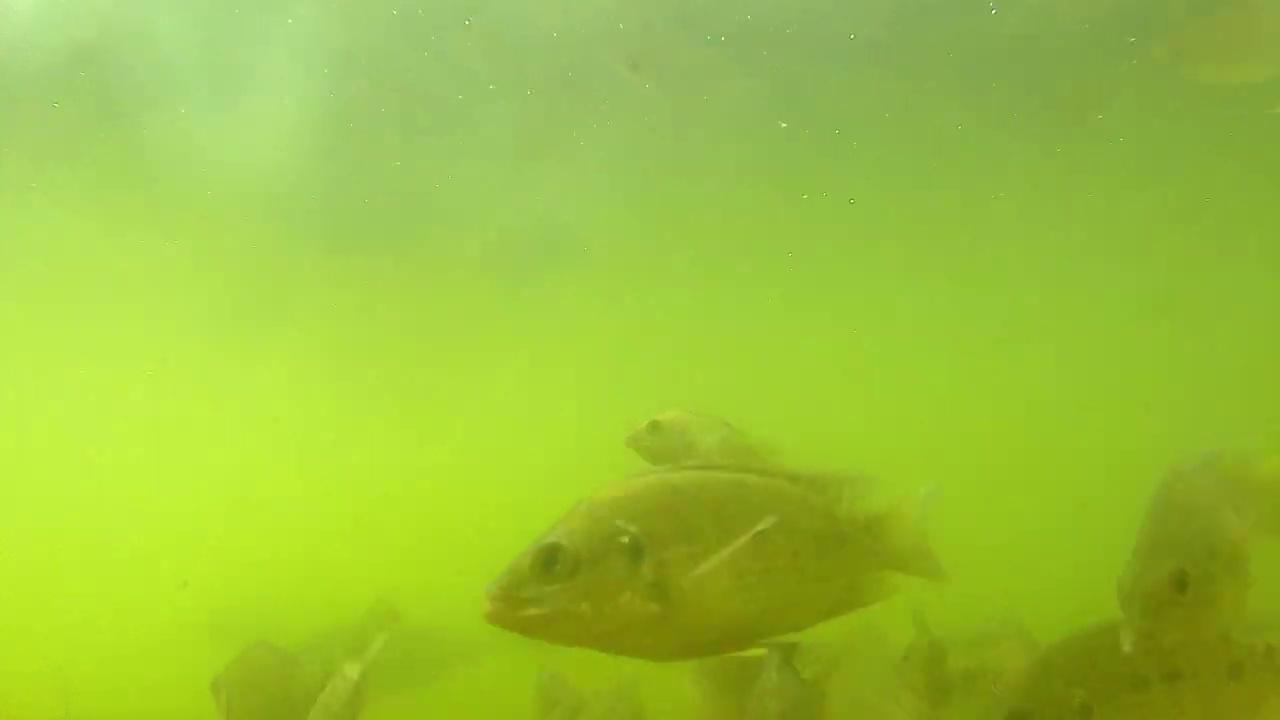Tilapia: (483, 466, 942, 668), (1125, 446, 1280, 686), (619, 398, 784, 492)
